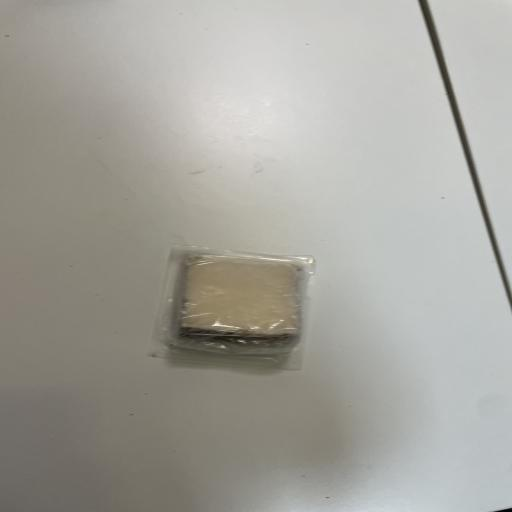cured_goat_cheese: (120, 222, 333, 394)
